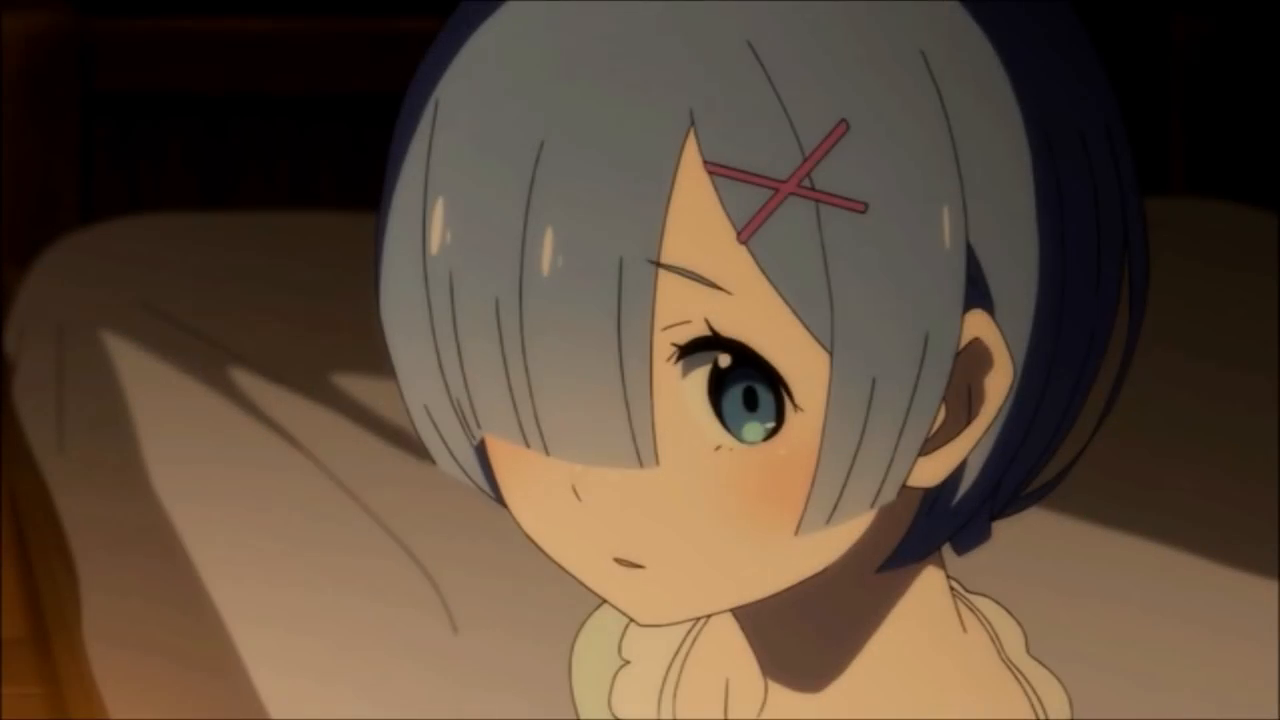REM: (369, 1, 1152, 628)
